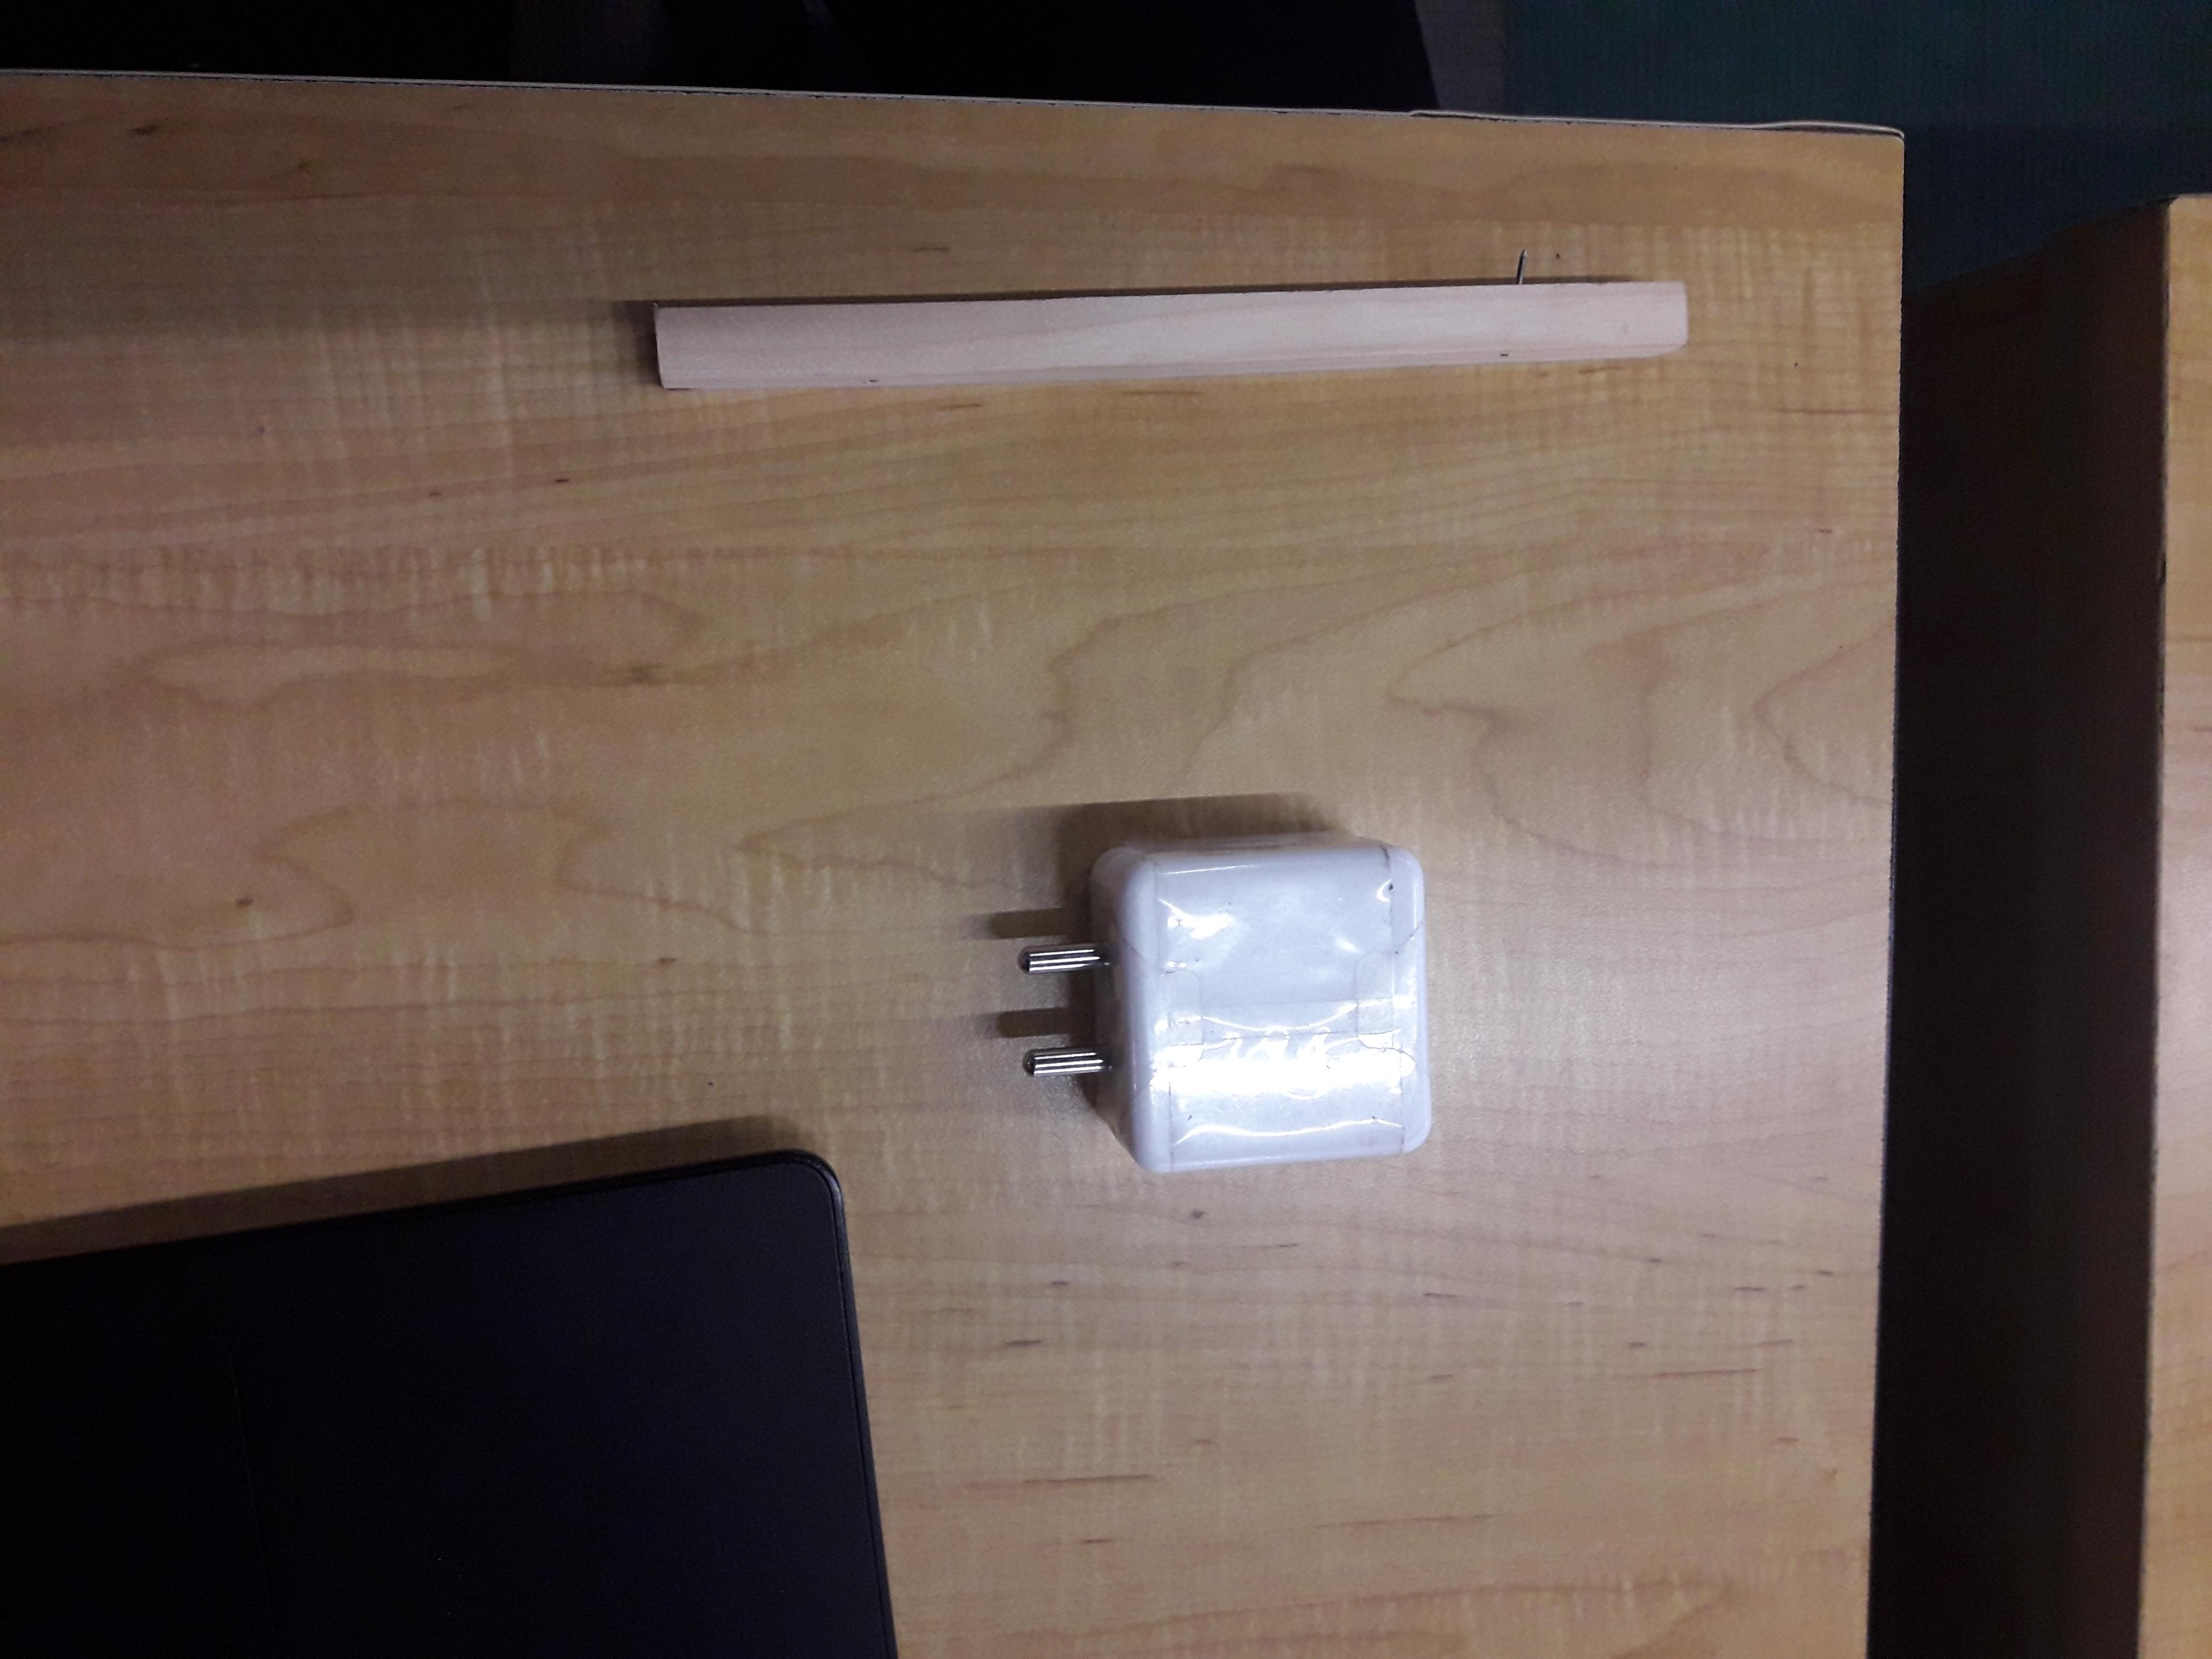object: (1139, 843, 1435, 1171)
reference: (655, 275, 1693, 371)
